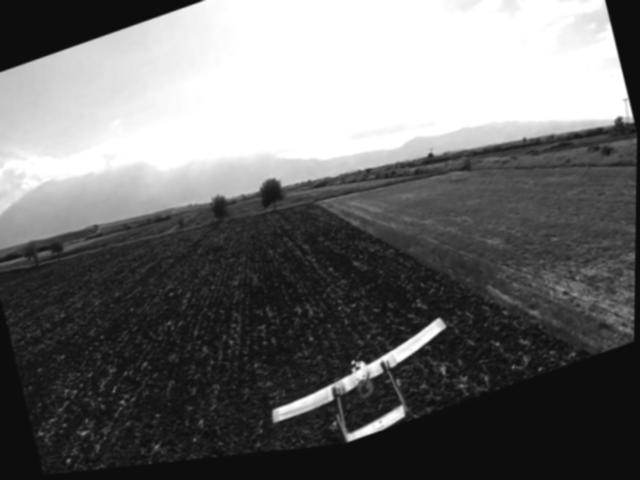hedef: (259, 317, 469, 458)
